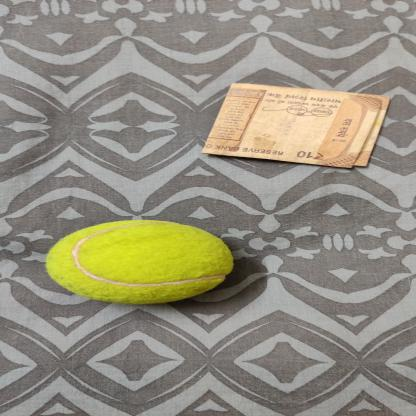New10Back: (203, 81, 391, 170)
